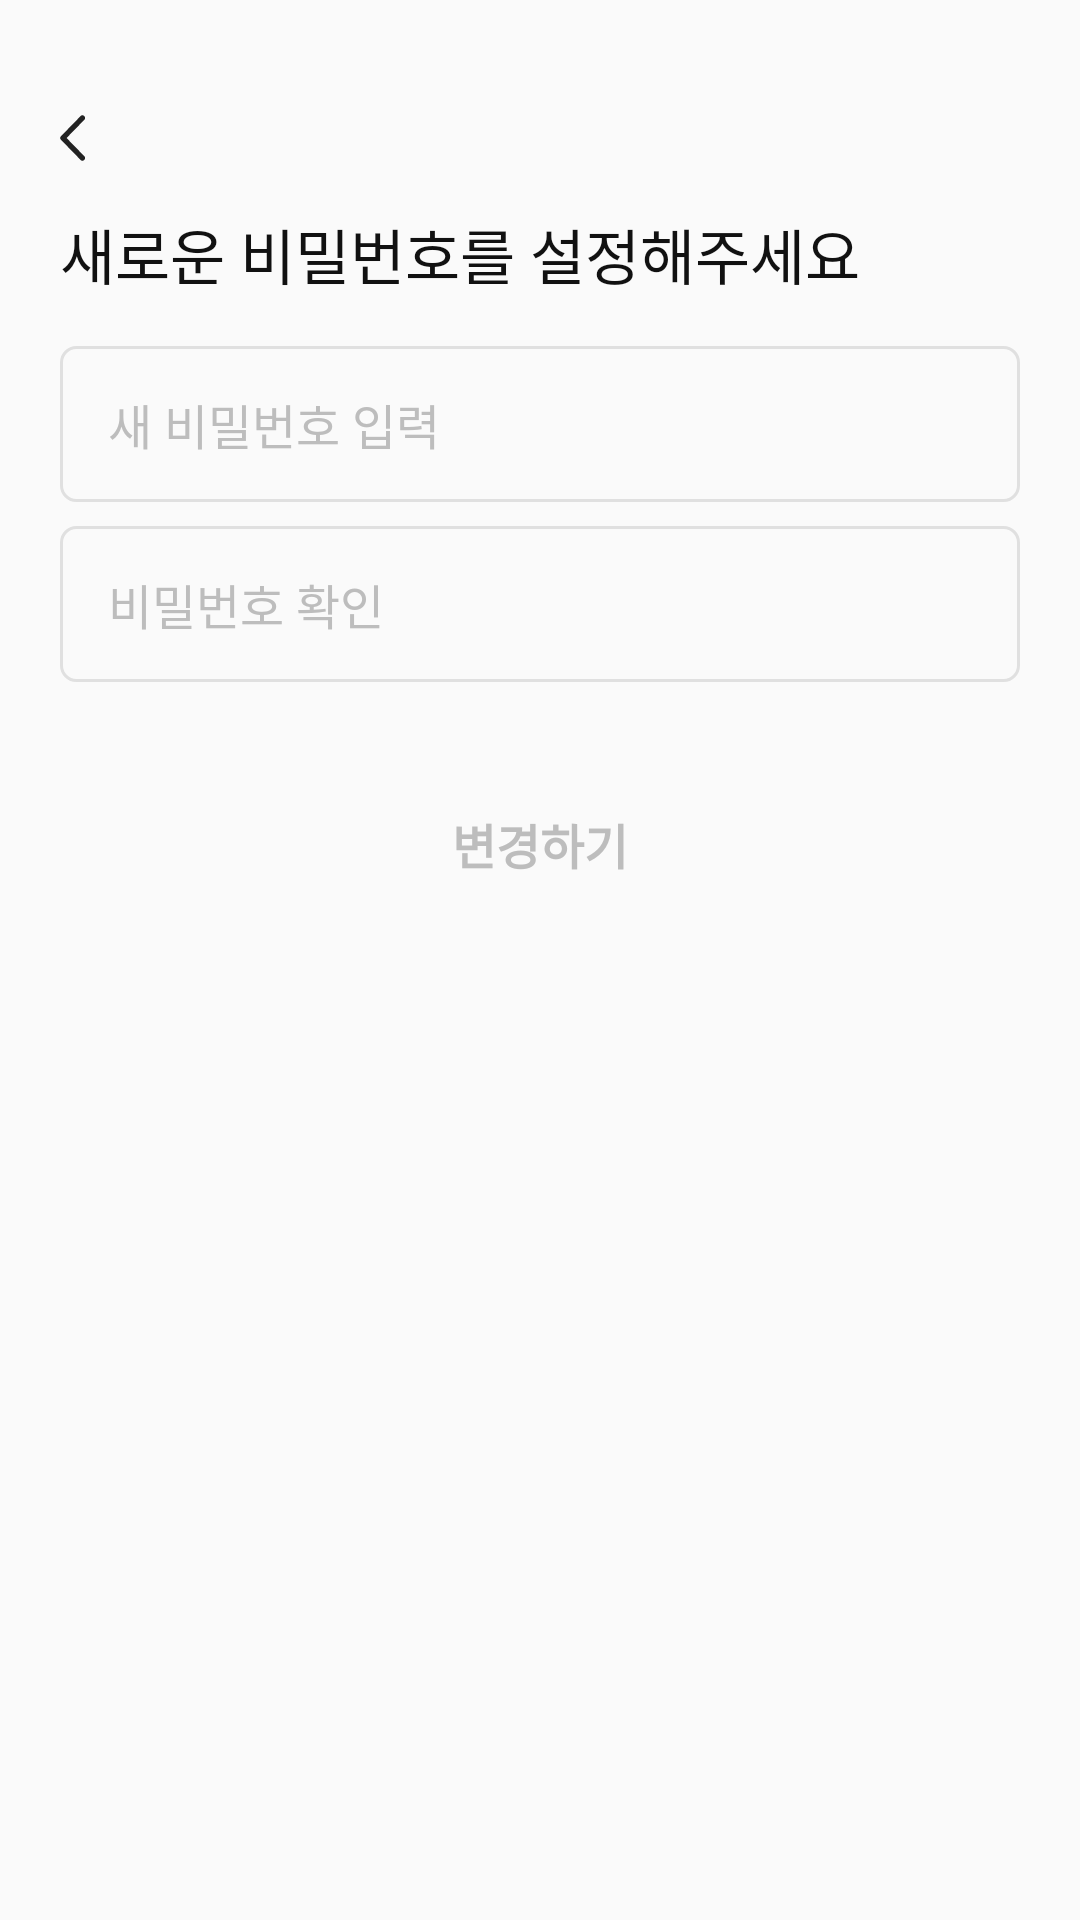

Named icons in this screenshot (1080x1920) and their centers, point (x, y):
back: point (72, 138)
